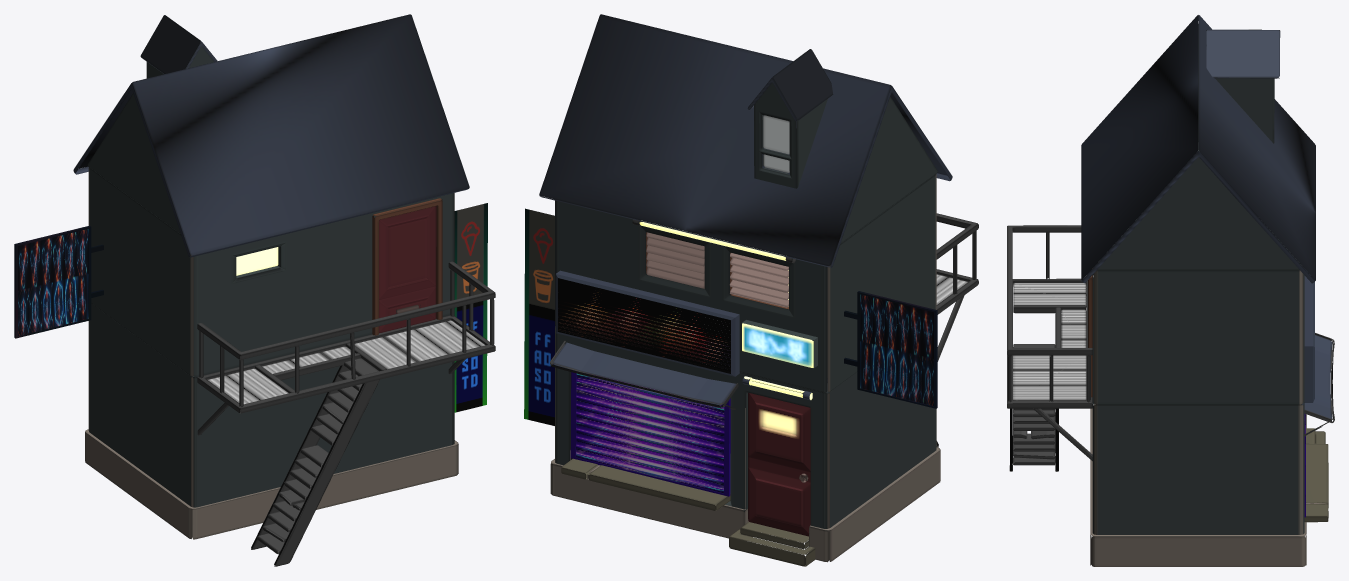
Rendered from FUT0310005.fbx.
The picture shows the model from 3 angles, left to right: view 1: azimuth 30°, elevation 25°; view 2: azimuth 150°, elevation 25°; view 3: azimuth 270°, elevation 25°; orthographic projection. The views are drawn at different scales.
Visible parts, largest first — view 1: smFUT0310005; view 2: smFUT0310005; view 3: smFUT0310005.
Part boxes in pixels (x1=…): smFUT0310005: x1=14, y1=14, x2=495, y2=566; smFUT0310005: x1=524, y1=14, x2=978, y2=566; smFUT0310005: x1=1007, y1=15, x2=1334, y2=566.
Bounding box in the file's own units: 615 × 682 × 453.
5 materials, 5 textured.
